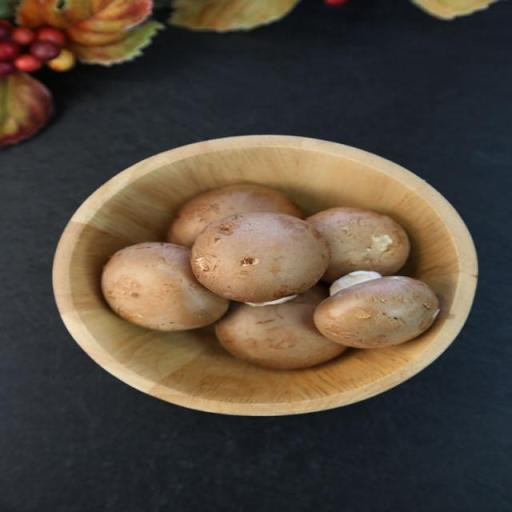Button Mushroom: (106, 185, 440, 378)
